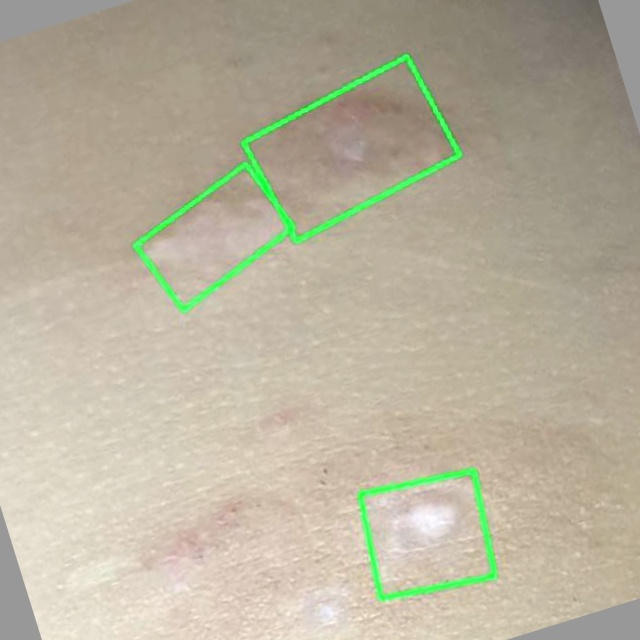Eczema: (244, 55, 459, 241), (135, 162, 293, 309), (360, 470, 494, 598)
